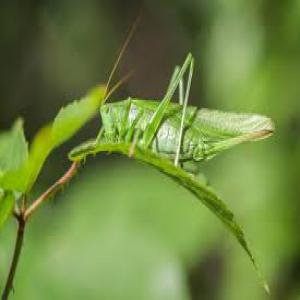locust: (94, 55, 282, 170)
